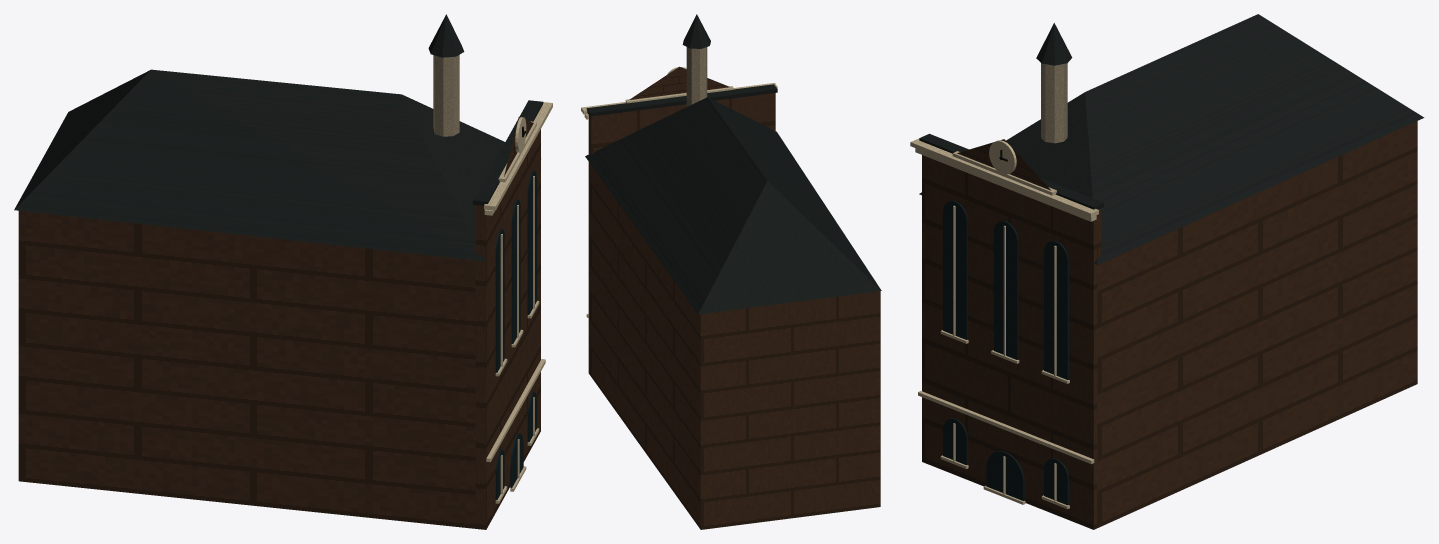
3 views of the same model, side by side, from view 1: azimuth 30°, elevation 25°; view 2: azimuth 150°, elevation 25°; view 3: azimuth 270°, elevation 25° (orthographic). The views are drawn at different scales.
Visible parts, largest first — view 1: synagoge-boompjes-4, synagoge-boompjes-1, synagoge-boompjes-5, synagoge-boompjes-2, synagoge-boompjes-0; view 2: synagoge-boompjes-4, synagoge-boompjes-1, synagoge-boompjes-0, synagoge-boompjes-2; view 3: synagoge-boompjes-4, synagoge-boompjes-1, synagoge-boompjes-5, synagoge-boompjes-2, synagoge-boompjes-0.
Part boxes in pixels (x1=…): synagoge-boompjes-4: x1=18, y1=117, x2=540, y2=529; synagoge-boompjes-1: x1=14, y1=14, x2=543, y2=261; synagoge-boompjes-5: x1=495, y1=171, x2=536, y2=500; synagoge-boompjes-2: x1=484, y1=102, x2=552, y2=503; synagoge-boompjes-0: x1=433, y1=55, x2=459, y2=136; synagoge-boompjes-4: x1=588, y1=66, x2=880, y2=529; synagoge-boompjes-1: x1=585, y1=14, x2=881, y2=314; synagoge-boompjes-0: x1=686, y1=47, x2=707, y2=106; synagoge-boompjes-2: x1=581, y1=67, x2=777, y2=317; synagoge-boompjes-4: x1=922, y1=121, x2=1417, y2=529; synagoge-boompjes-1: x1=919, y1=14, x2=1424, y2=264; synagoge-boompjes-5: x1=943, y1=200, x2=1068, y2=505; synagoge-boompjes-2: x1=910, y1=138, x2=1098, y2=509; synagoge-boompjes-0: x1=1041, y1=63, x2=1067, y2=143.
Bounding box in the file's own units: 26.47 × 25.5 × 26.26.
6 materials, 6 textured.
